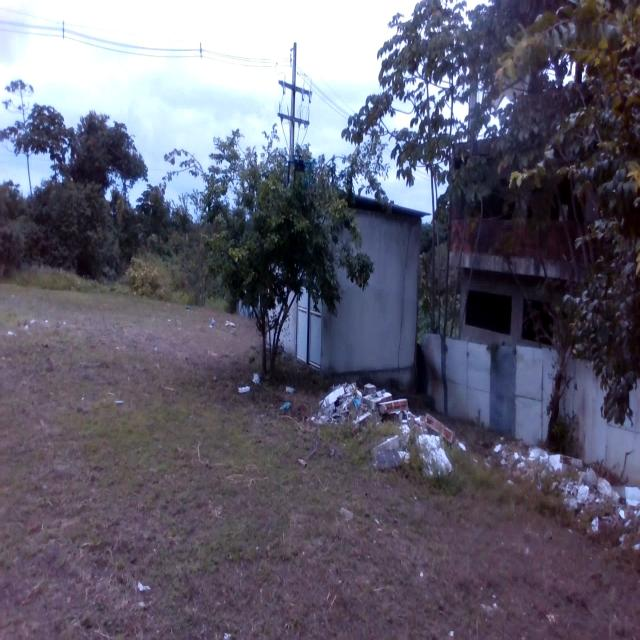-uav-: (280, 151, 310, 188)
